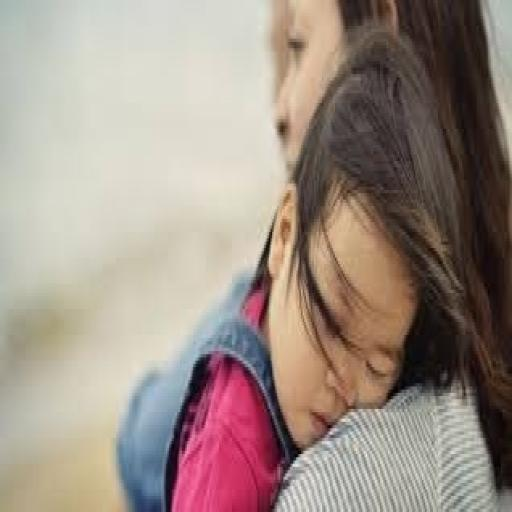sleeping: (113, 0, 510, 509)
